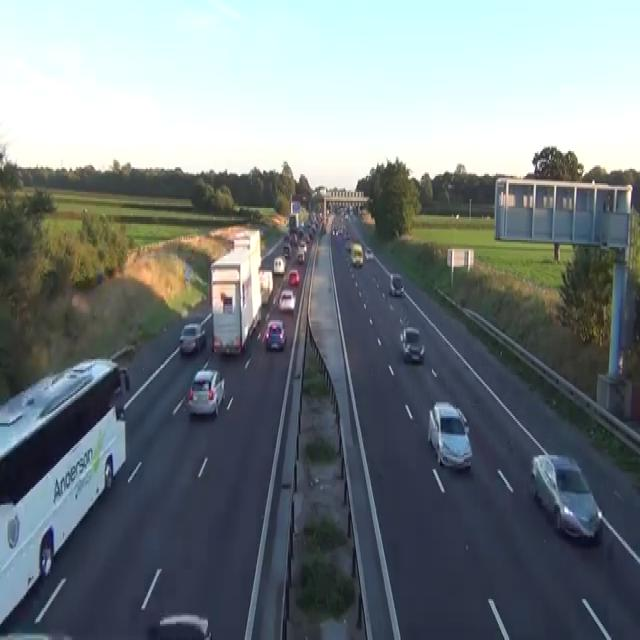Car: (0, 357, 129, 466), (529, 453, 603, 542), (427, 400, 472, 469), (187, 368, 225, 416), (152, 614, 212, 638), (400, 325, 425, 363), (179, 322, 206, 354), (264, 318, 286, 350), (0, 630, 77, 638), (278, 288, 295, 311), (389, 272, 404, 297), (183, 263, 193, 283), (288, 268, 299, 286), (95, 268, 104, 284), (283, 242, 291, 258), (365, 246, 373, 260), (271, 215, 280, 226), (296, 251, 304, 263), (289, 233, 297, 245), (344, 240, 351, 251), (320, 222, 326, 233), (283, 233, 289, 243), (284, 217, 288, 226)
Truck: (0, 356, 129, 631), (209, 230, 261, 356), (259, 268, 273, 306), (350, 242, 363, 266)
